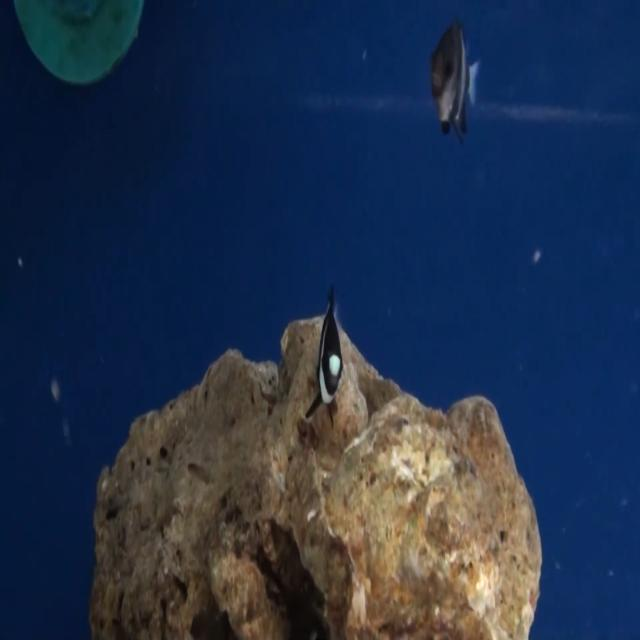ThreeStripedDamselfish: (428, 8, 479, 143), (307, 281, 348, 429)
